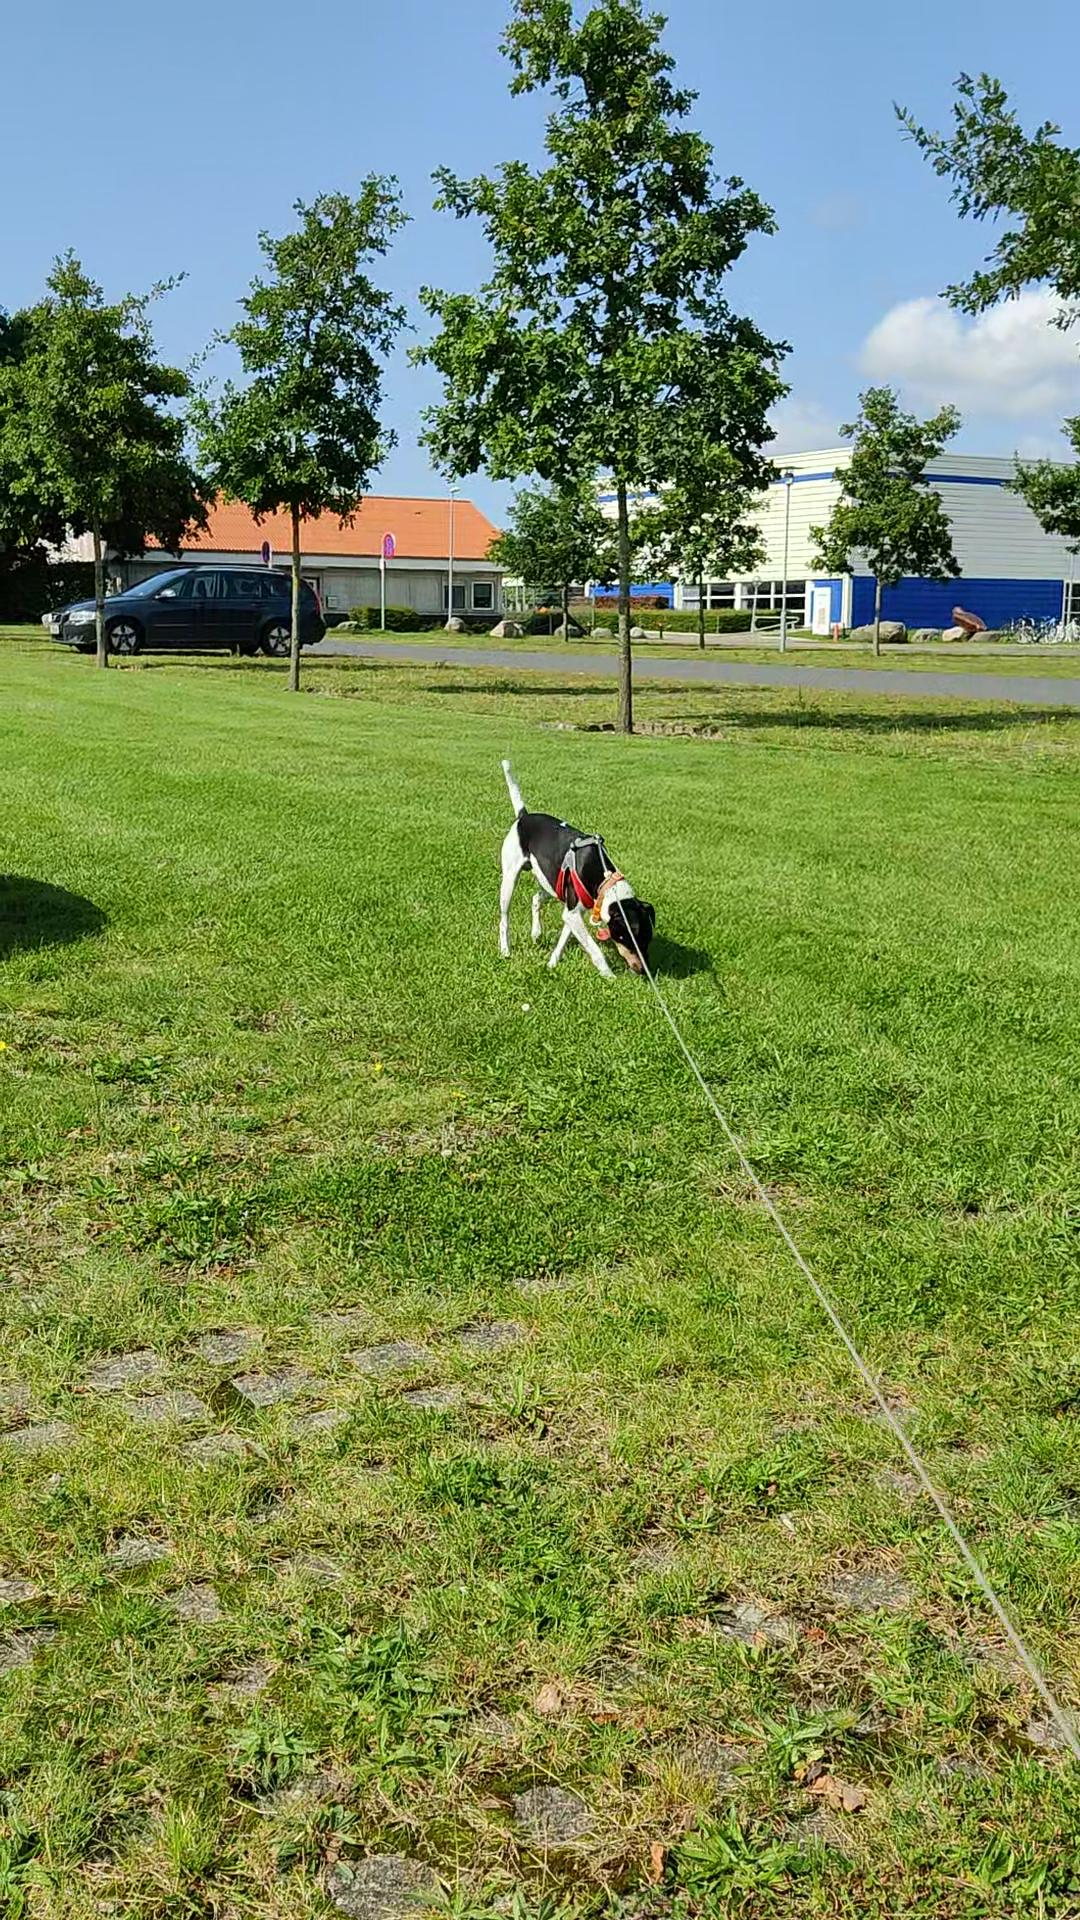Dog: (483, 748, 669, 998)
